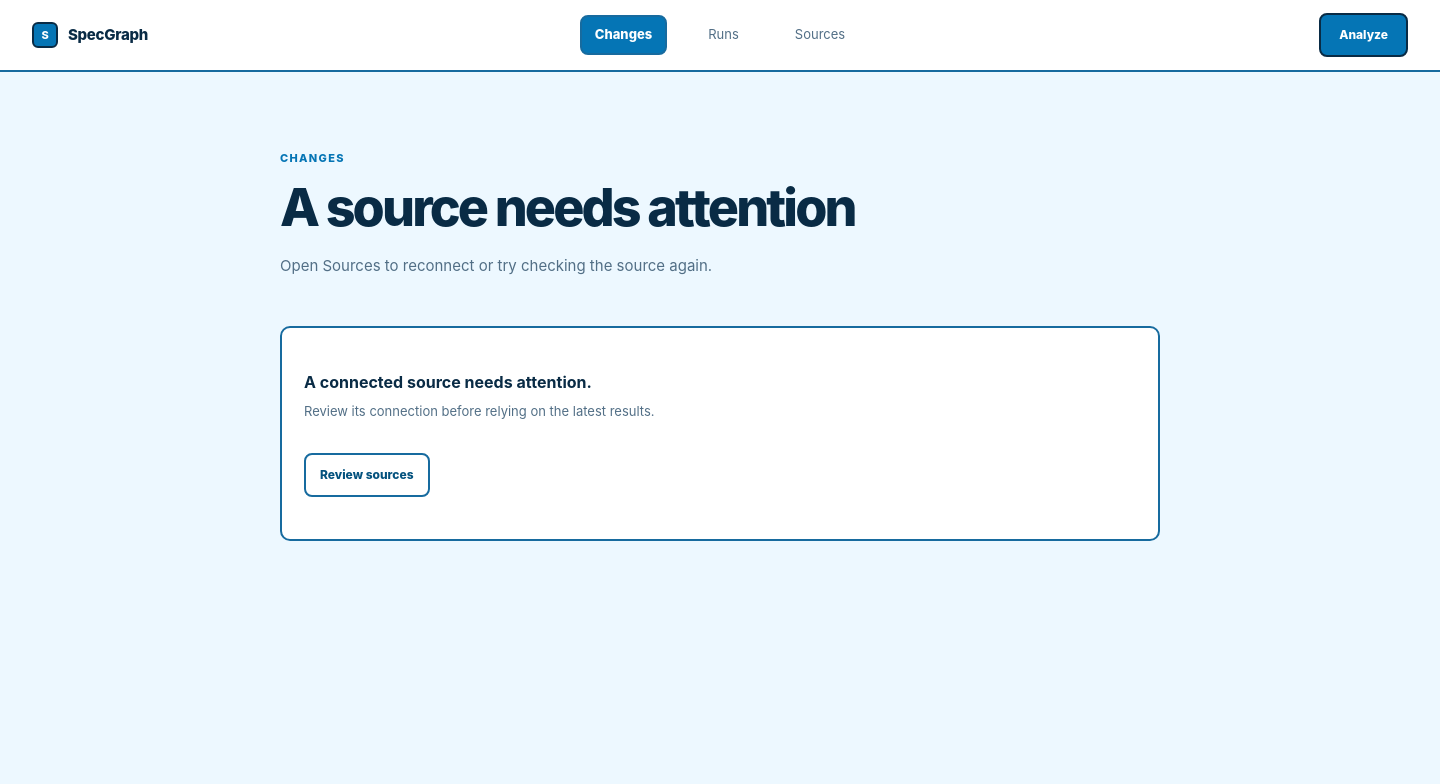
Test: SpecGraphApp › directs source failures to the source screen
The width and height of the screenshot is (1440, 784).
Expected: the heading "A source needs attention" is shown, [280,176,855,238]
Click the button "Review sources": [367, 475] box [304,453,430,497]
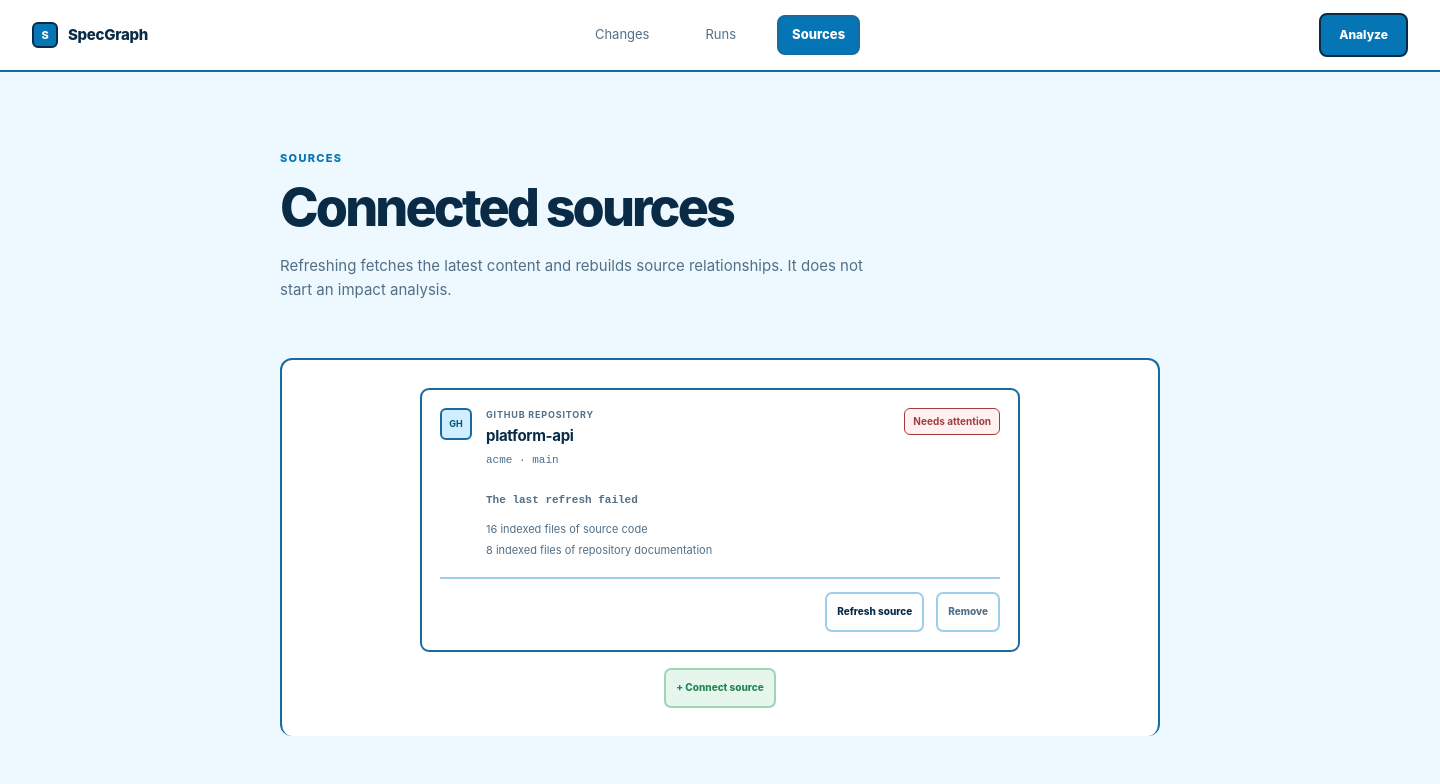
Result: the heading "Connected sources" is shown at [280,176,733,238]
Result: the text "The last refresh failed" is shown at [486,494,638,506]
